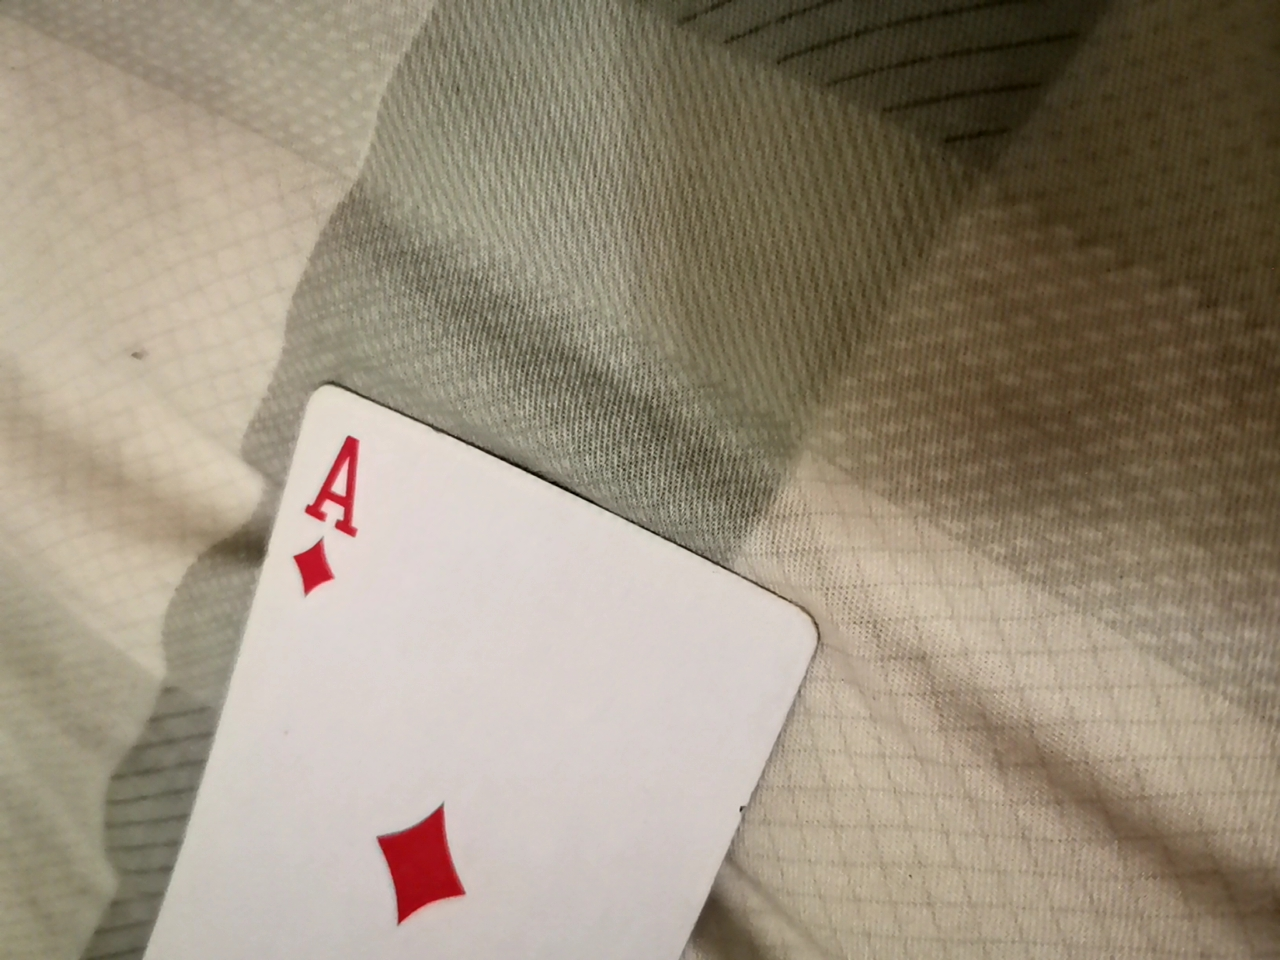fk a: (89, 383, 833, 952)
